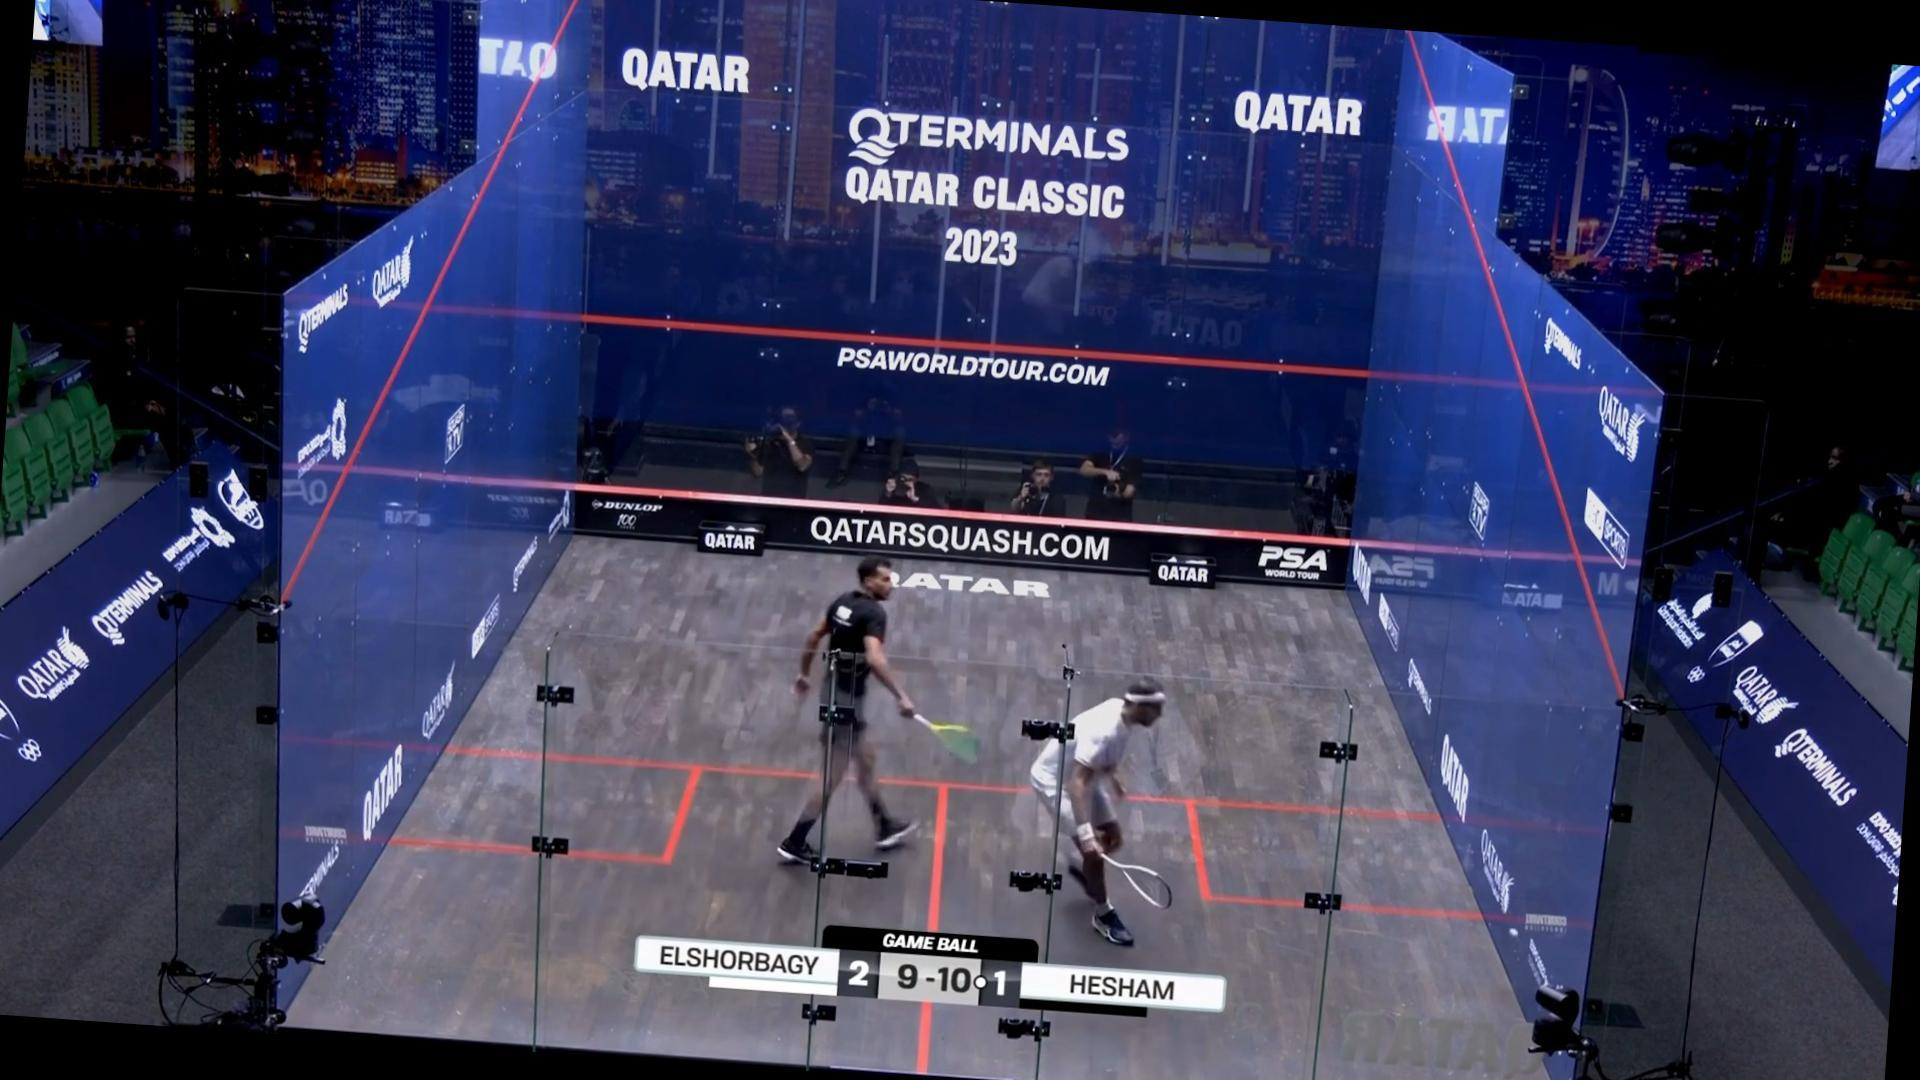Squash-Ball: (1495, 913, 1534, 951)
